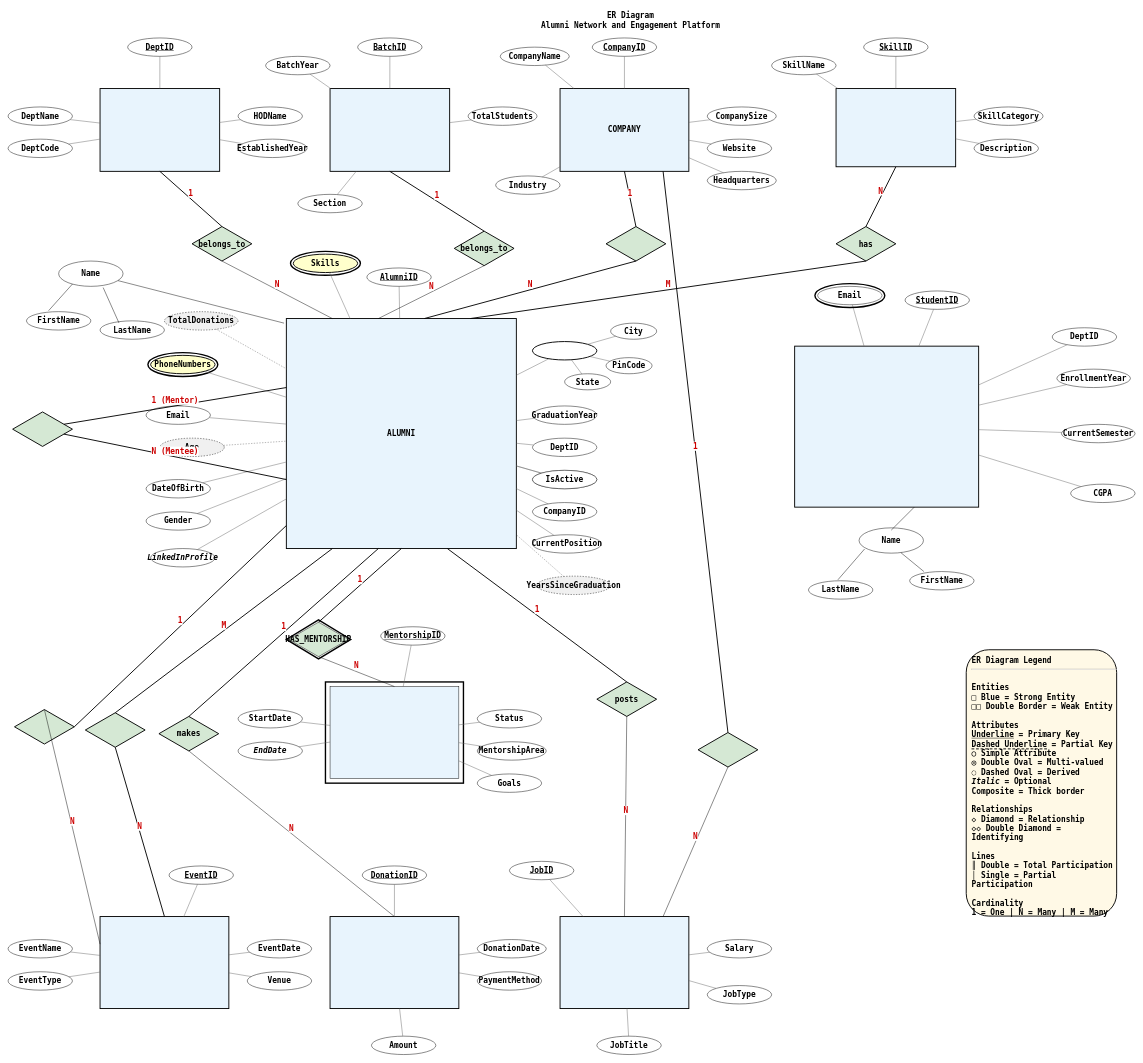
This 1143x1063 diagram has some shape labels left out. Each missing label, with the centre of its shape:
Address: the point at 564,350
at: the point at 727,749
attends: the point at 115,730
BATCH: the point at 389,130
DEPARTMENT: the point at 159,130
DONATION: the point at 394,962
EVENT: the point at 164,962
JOB: the point at 624,962
mentors: the point at 42,429
MENTORSHIP: the point at 394,732
organizes: the point at 44,726
SKILL: the point at 895,127
STUDENT: the point at 886,426
works_at: the point at 635,243
